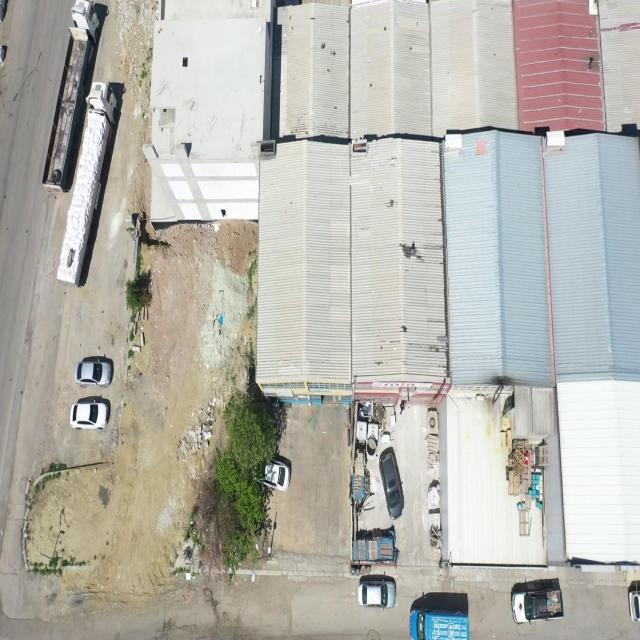p3rson: (399, 401, 405, 415)
